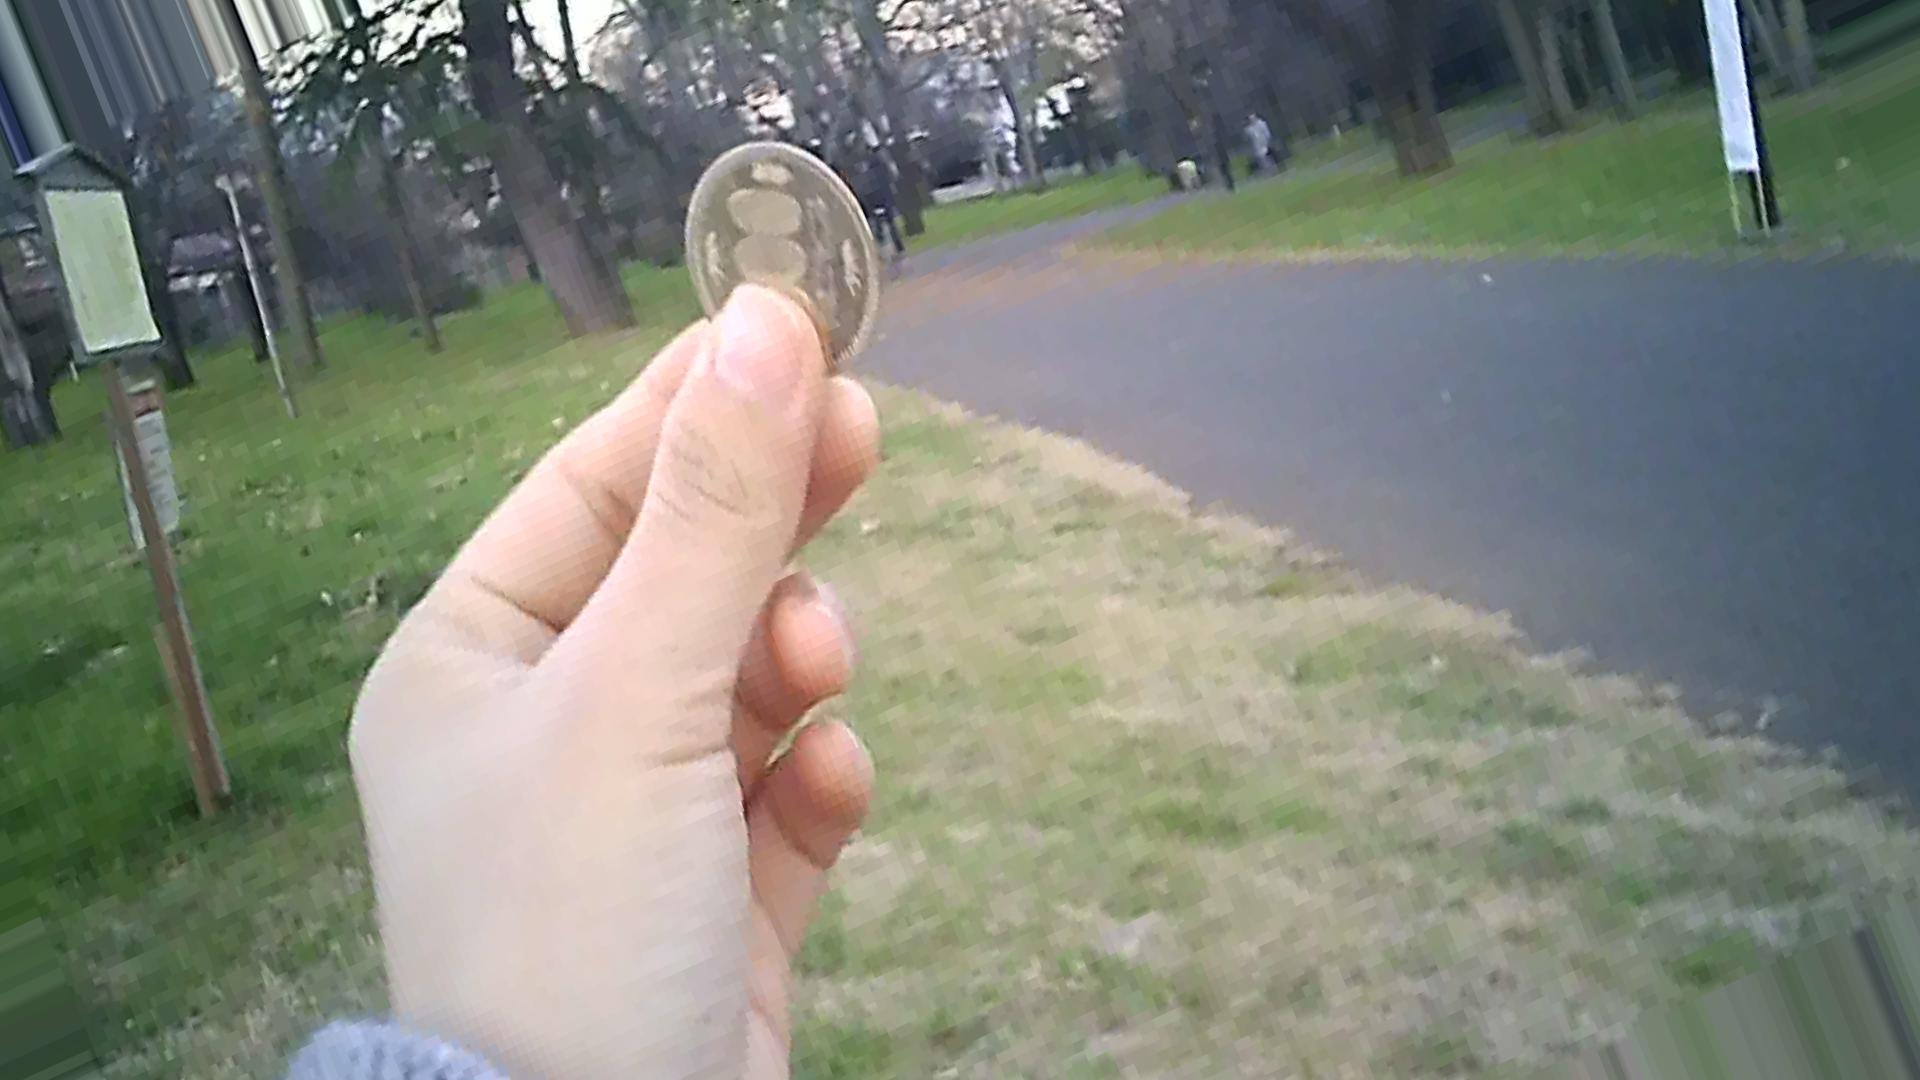500 Yen: (665, 133, 913, 400)
